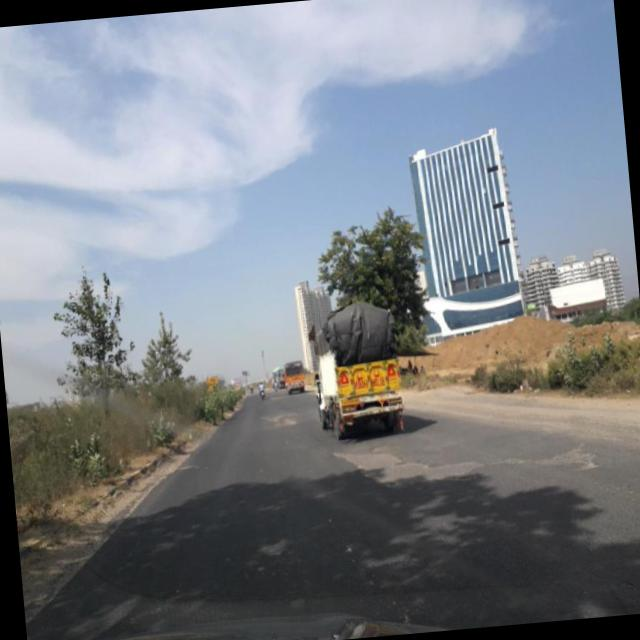pothole: (333, 418, 604, 528)
